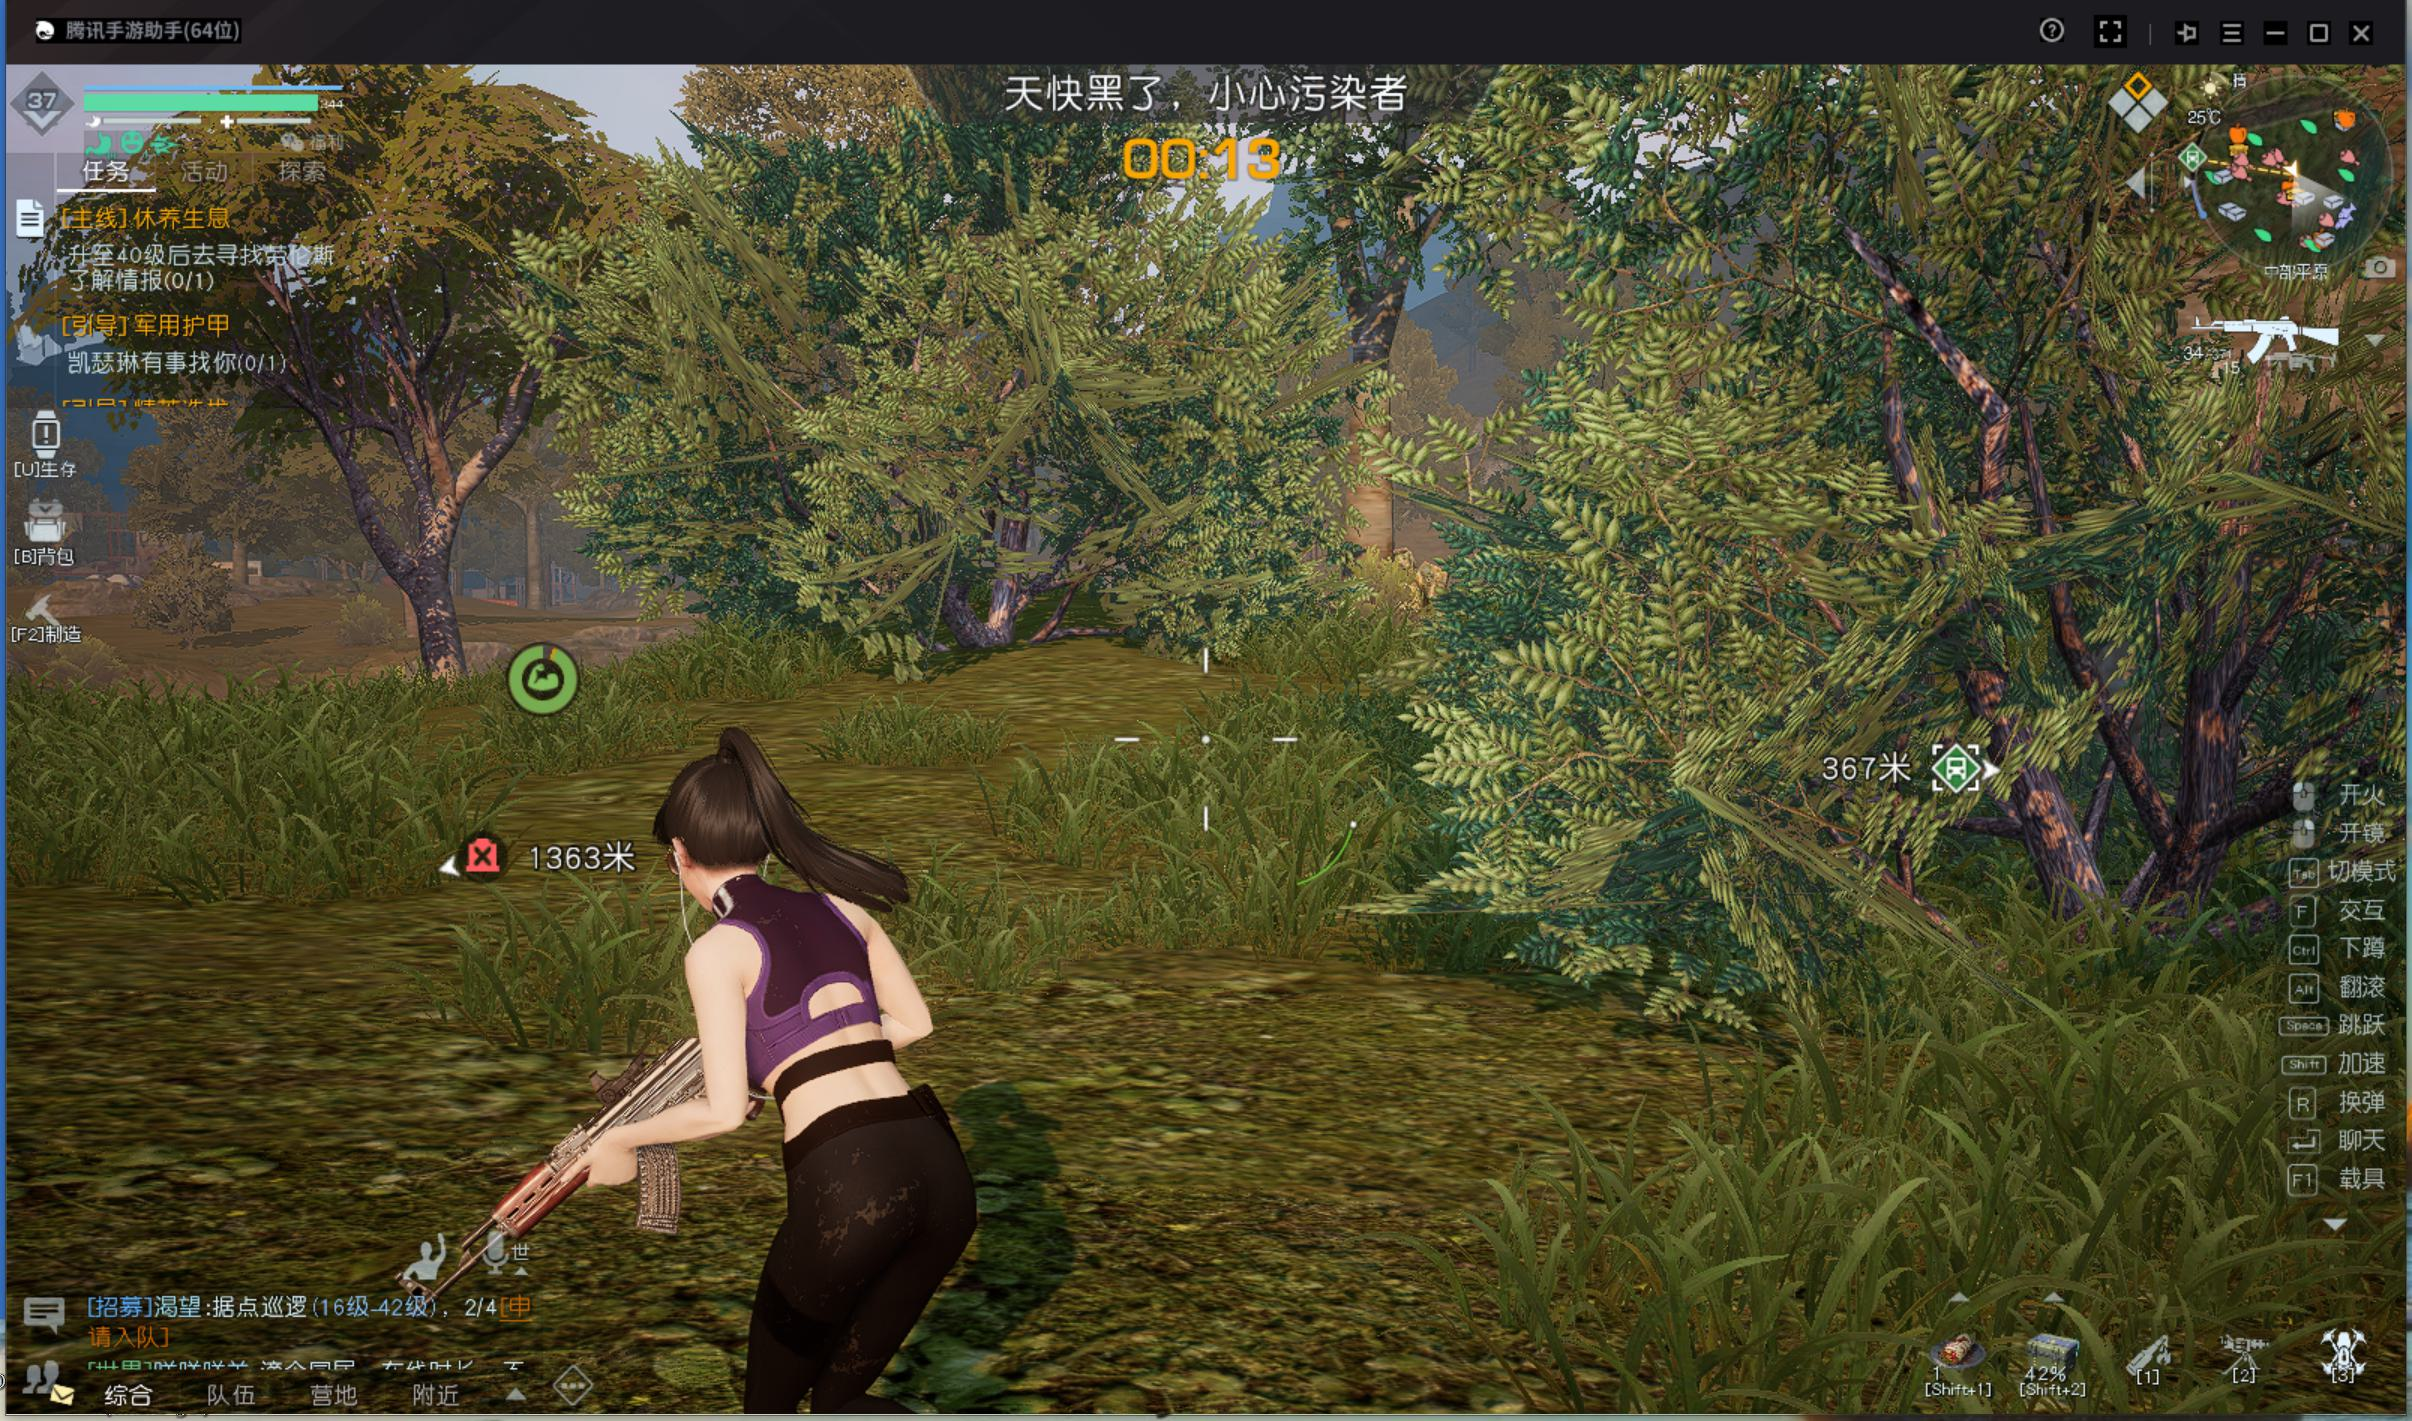tree: (1331, 271, 1411, 616), (392, 501, 474, 692)
